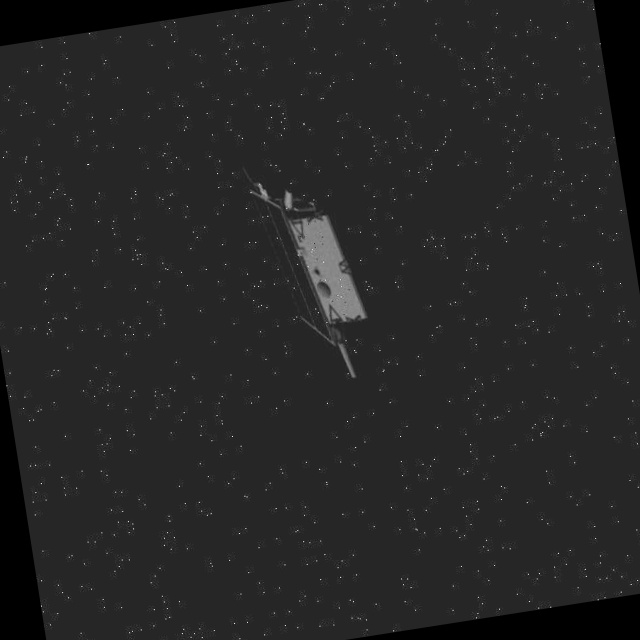satellite: (232, 167, 400, 397)
